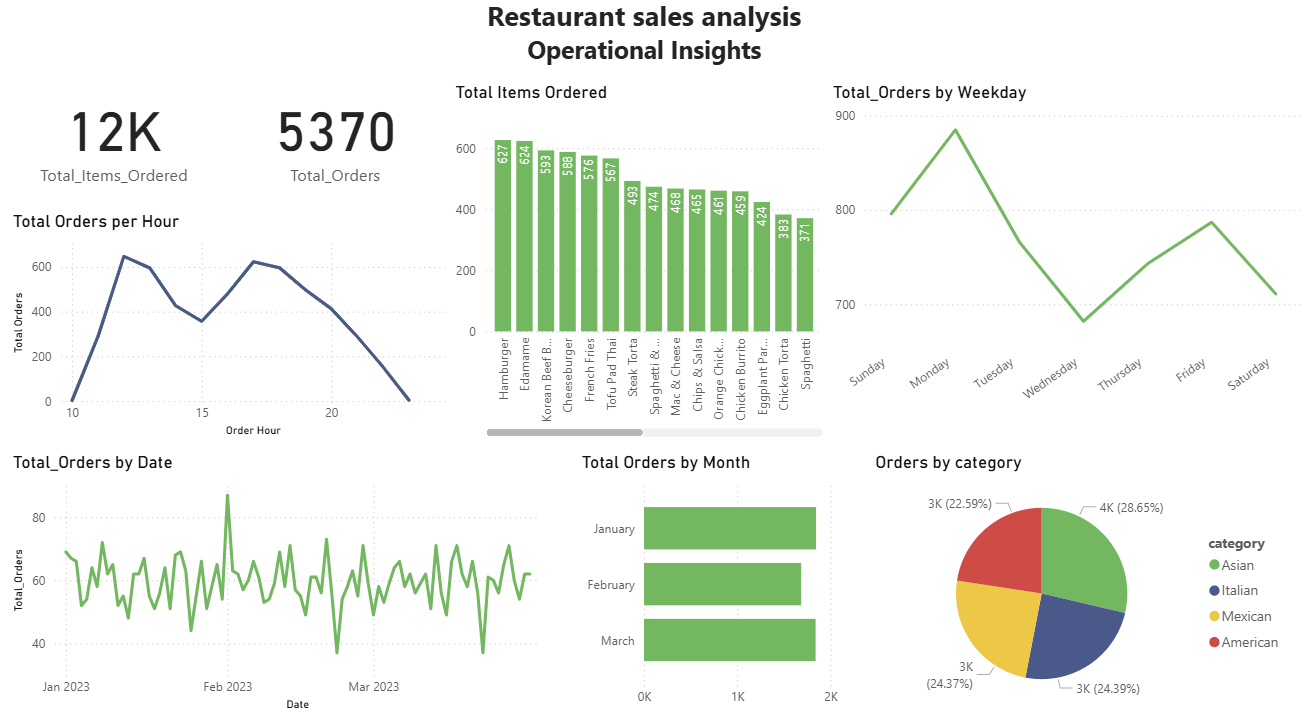

What the dashboard file says about the page in this screenshot:
{"tool":"powerbi","page":{"name":"Operational Insights","canvas":[1280,720],"ordinal":1},"visuals":[{"type":"textbox","box":[217.7,0,829.1,107.6],"z":0},{"type":"card","fields":{"Values":["order_details.Total_Items_Ordered"]},"box":[9.8,88,207.9,105.2],"z":1000},{"type":"card","fields":{"Values":["order_details.Total_Orders"]},"box":[226.2,88,207.9,105.2],"z":2000},{"type":"lineChart","title":"Total Orders per Hour","fields":{"Y":["order_details.Hourly_Orders","order_details.Total_Orders"],"Category":["order_details.Order_Hour"]},"box":[9.8,214,432.9,226.2],"z":3000},{"type":"pieChart","title":"Orders by category","fields":{"Category":["menu_items.category"],"Y":["order_details.Total_Items_Ordered"]},"box":[853.5,450,413.3,258],"z":4000},{"type":"clusteredBarChart","title":"Total Orders by Month","fields":{"Category":["Date_Table.MonthName"],"Y":["order_details.Total_Orders"]},"box":[566.2,450,260.5,258],"z":5000},{"type":"lineChart","fields":{"Y":["order_details.Total_Orders"],"Category":["Date_Table.Date"]},"box":[9.8,450,541.7,258],"z":6000},{"type":"lineChart","fields":{"Y":["order_details.Total_Orders"],"Category":["order_details.Weekday"]},"box":[812,88,468.3,333.8],"z":7000},{"type":"columnChart","title":"Total Items Ordered","fields":{"Y":["order_details.Total_Items_Ordered"],"Category":["menu_items.item_name"]},"box":[442.7,88,369.3,352.2],"z":8000}]}

Visuals, with their boxes in screenshot pixels (x1, y1, x2, y2), scaled from the page's 1280x720 canvas onto the 1306x725 screenshot:
textbox: locate(222, 0, 1068, 108)
card - order_details.Total_Items_Ordered: locate(10, 89, 222, 195)
card - order_details.Total_Orders: locate(231, 89, 443, 195)
"Total Orders per Hour" lineChart: locate(10, 215, 452, 443)
"Orders by category" pieChart: locate(871, 453, 1293, 713)
"Total Orders by Month" clusteredBarChart: locate(578, 453, 843, 713)
lineChart - order_details.Total_Orders x Date_Table.Date: locate(10, 453, 563, 713)
lineChart - order_details.Total_Orders x order_details.Weekday: locate(828, 89, 1305, 425)
"Total Items Ordered" columnChart: locate(452, 89, 828, 443)
